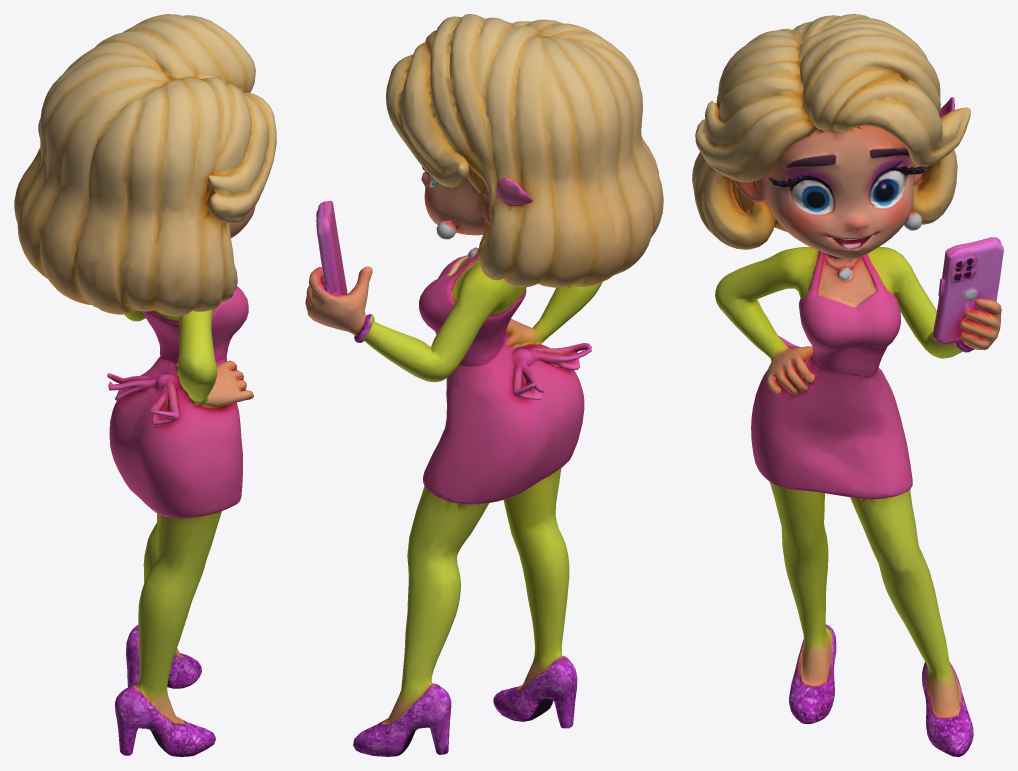
The model's file is rizz.glb.
3 renders of one model, left to right at view 1: azimuth 30°, elevation 25°; view 2: azimuth 150°, elevation 25°; view 3: azimuth 270°, elevation 25°, orthographic. The views are drawn at different scales.
Visible parts, largest first — view 1: tripo_node_e6cb0520-34cb-484e-8ac6-402da175dbae; view 2: tripo_node_e6cb0520-34cb-484e-8ac6-402da175dbae; view 3: tripo_node_e6cb0520-34cb-484e-8ac6-402da175dbae.
Boxes of the visible parts, x1,y1,x2,y2 form: tripo_node_e6cb0520-34cb-484e-8ac6-402da175dbae: [14, 14, 276, 756]; tripo_node_e6cb0520-34cb-484e-8ac6-402da175dbae: [305, 14, 663, 756]; tripo_node_e6cb0520-34cb-484e-8ac6-402da175dbae: [692, 14, 1003, 756].
Bounding box in the file's own units: 0.3858 × 0.9978 × 0.4094.
1 material, 1 textured.
